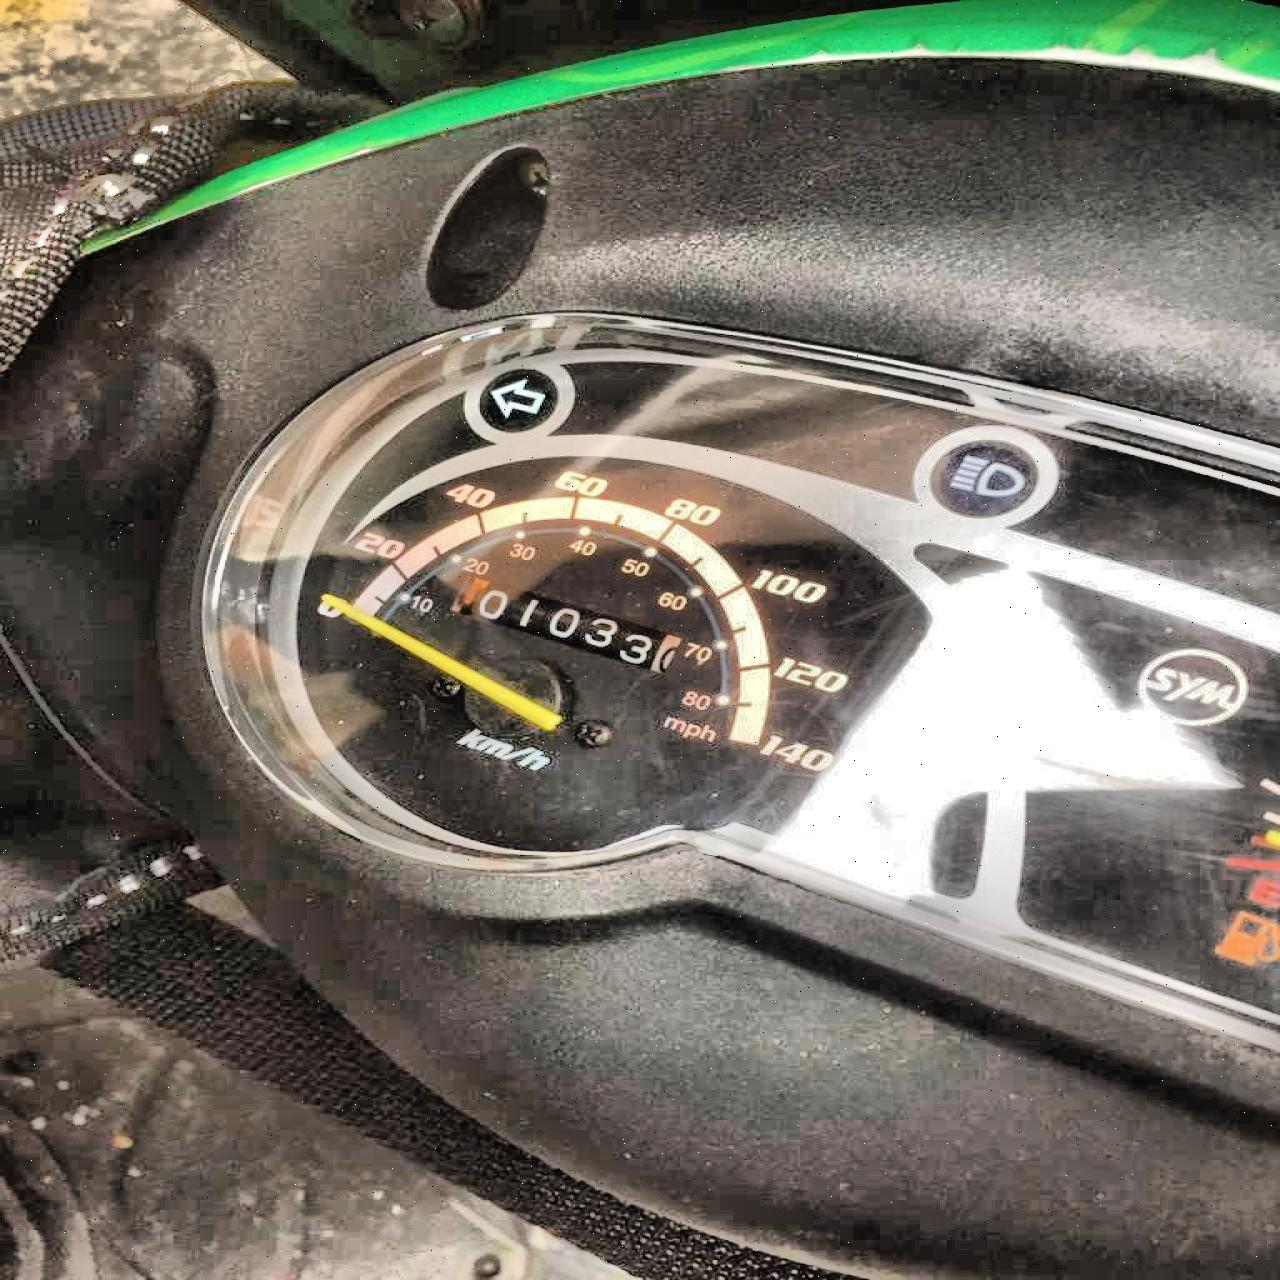0: (545, 605, 580, 638), (475, 587, 509, 619), (659, 644, 679, 673), (670, 595, 685, 611)
1: (515, 595, 540, 629)
3: (617, 629, 653, 662), (581, 614, 617, 647)
6: (656, 590, 672, 606)
odometer: (442, 576, 686, 676)
